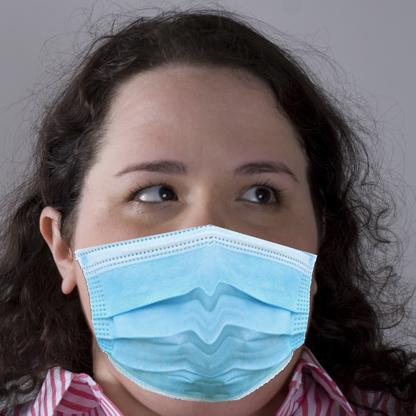mask: (71, 219, 321, 404)
